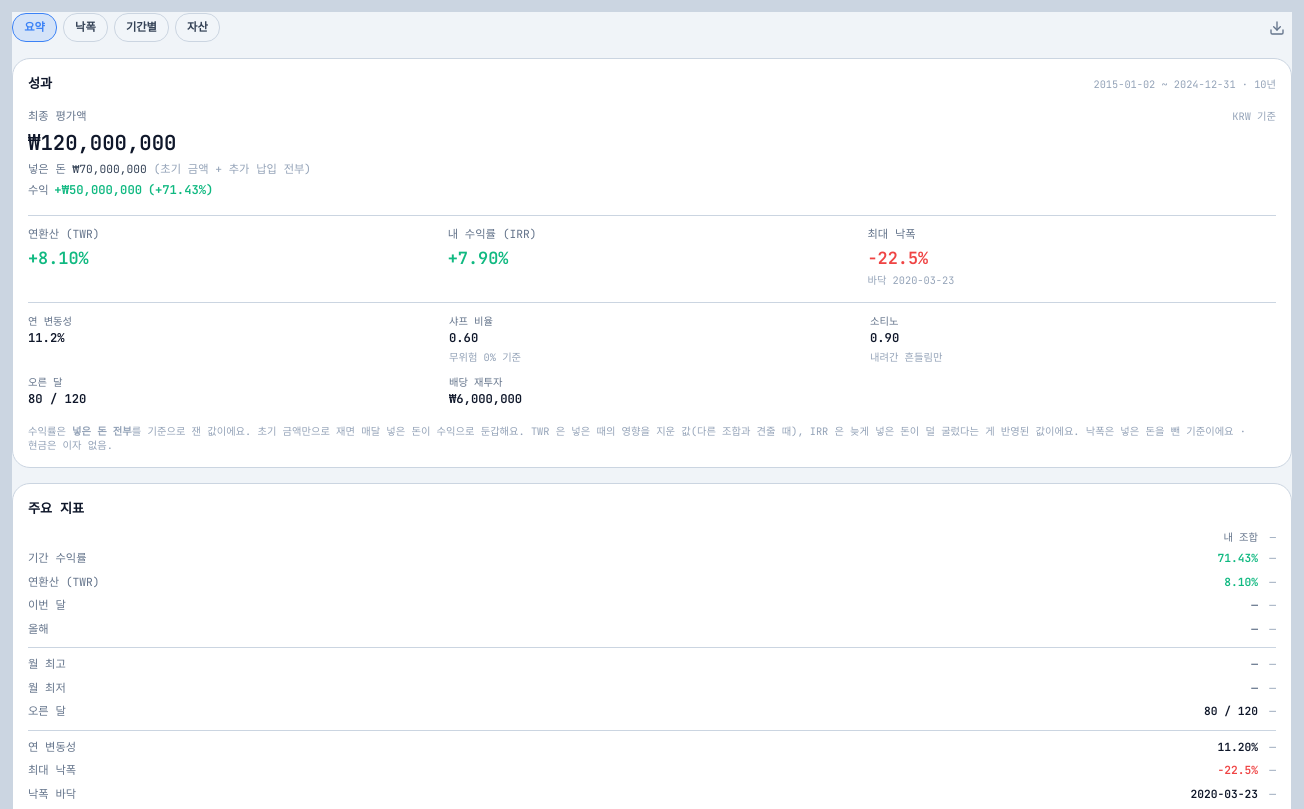
Test: 자산마다 — 누가 얼마를 벌었나 › 조사는 이름 끝소리에 맞춘다 — 받침이 없으면 '예요'
Click the tab "자산". click: (197, 28)
box: x1=175 y1=13 x2=220 y2=42
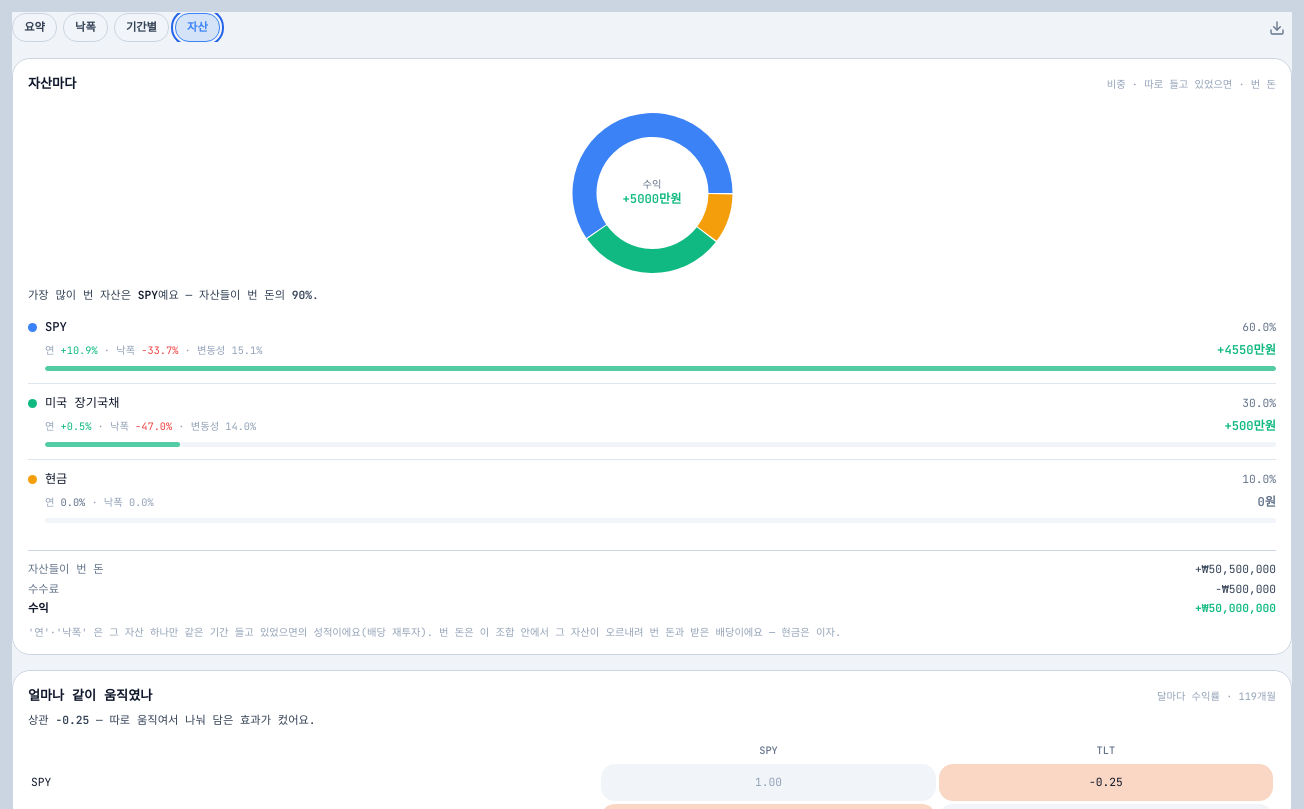
Expected: the text "가장 많이 번 자산은 SPY예요 — 자산들이 번 돈의 90%." is shown, x1=28 y1=288 x2=319 y2=302
